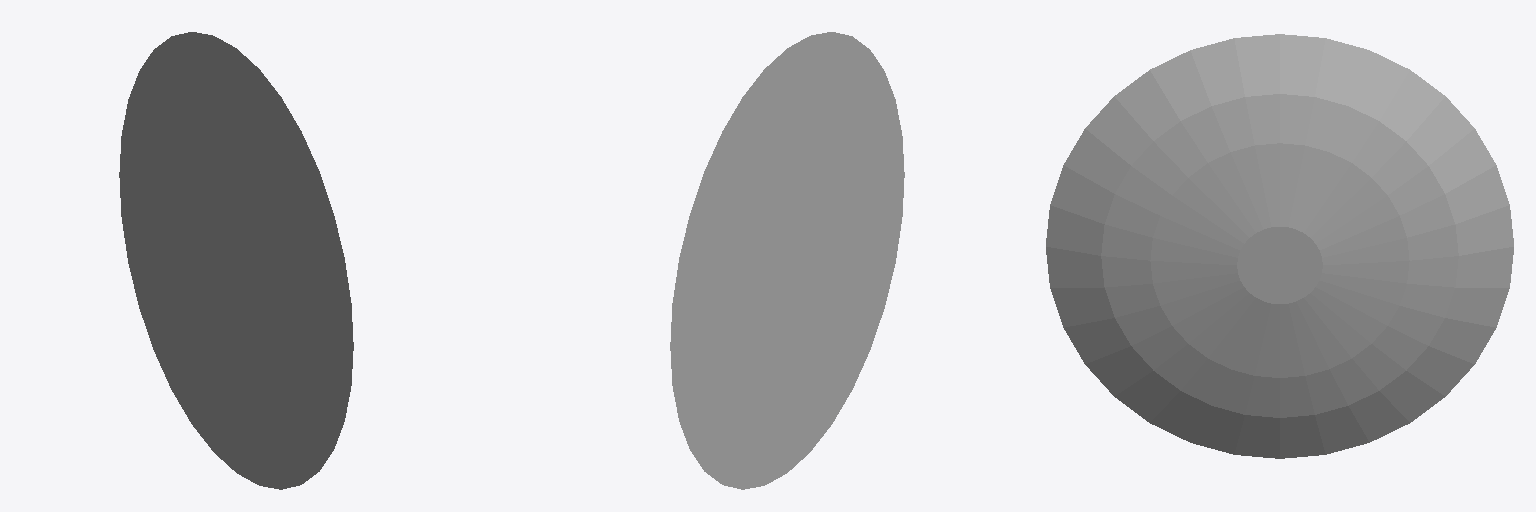
The model's file is diana.obj.
3 views of the same model, side by side, from view 1: azimuth 30°, elevation 25°; view 2: azimuth 150°, elevation 25°; view 3: azimuth 270°, elevation 25° (orthographic).
Visible parts, largest first — view 1: Cylinder; view 2: Cylinder; view 3: Cylinder.
Boxes of the visible parts, <box> form: Cylinder: <box>119,32,353,489</box>; Cylinder: <box>670,32,904,489</box>; Cylinder: <box>1046,34,1513,458</box>.
Bounding box in the file's own units: 0.1917 × 2 × 2.